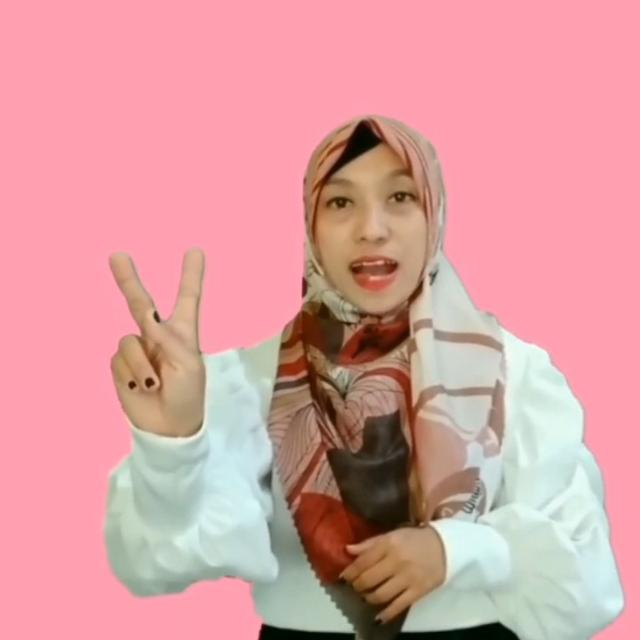K: (108, 247, 204, 436)
